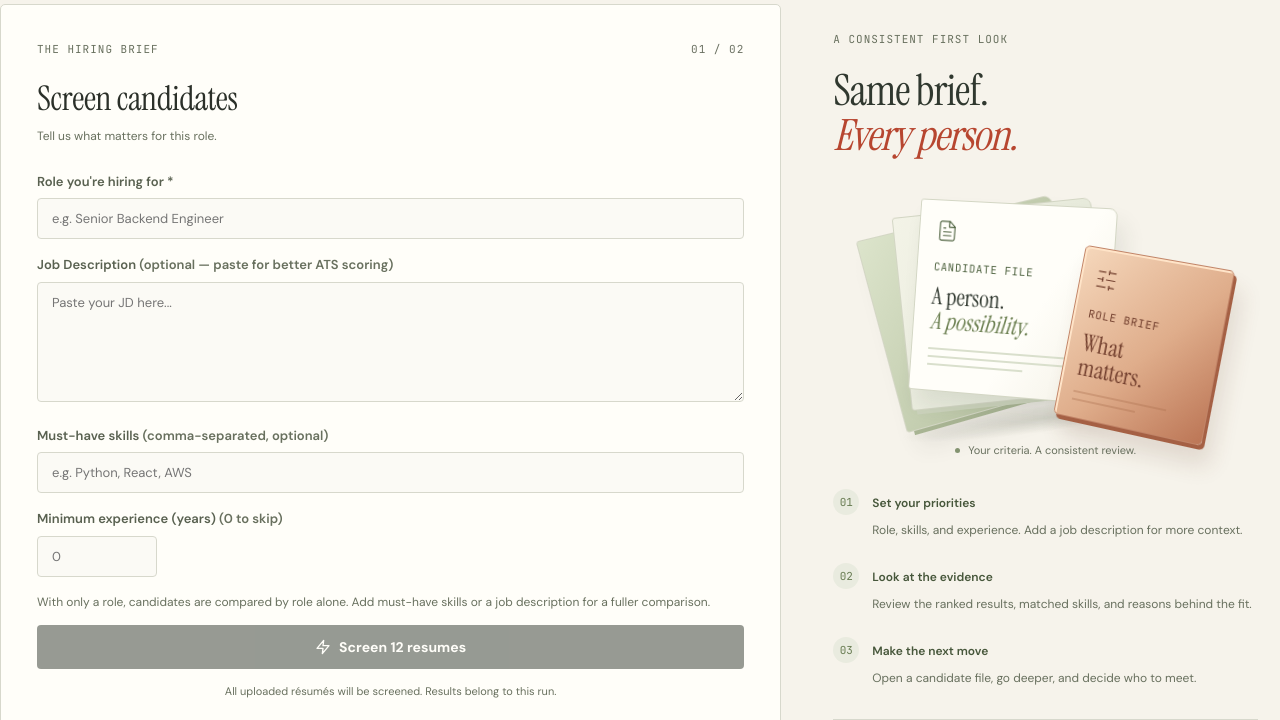
Test: what the form says before a run › that a role alone compares roles, until something else is asked for
Expected: the text "compared by role alone" is shown, [37,594,710,610]
Type "Python" into the field labelled "Must-have skills (comma-separated, optional)" at (391, 473), box [37,452,744,494]
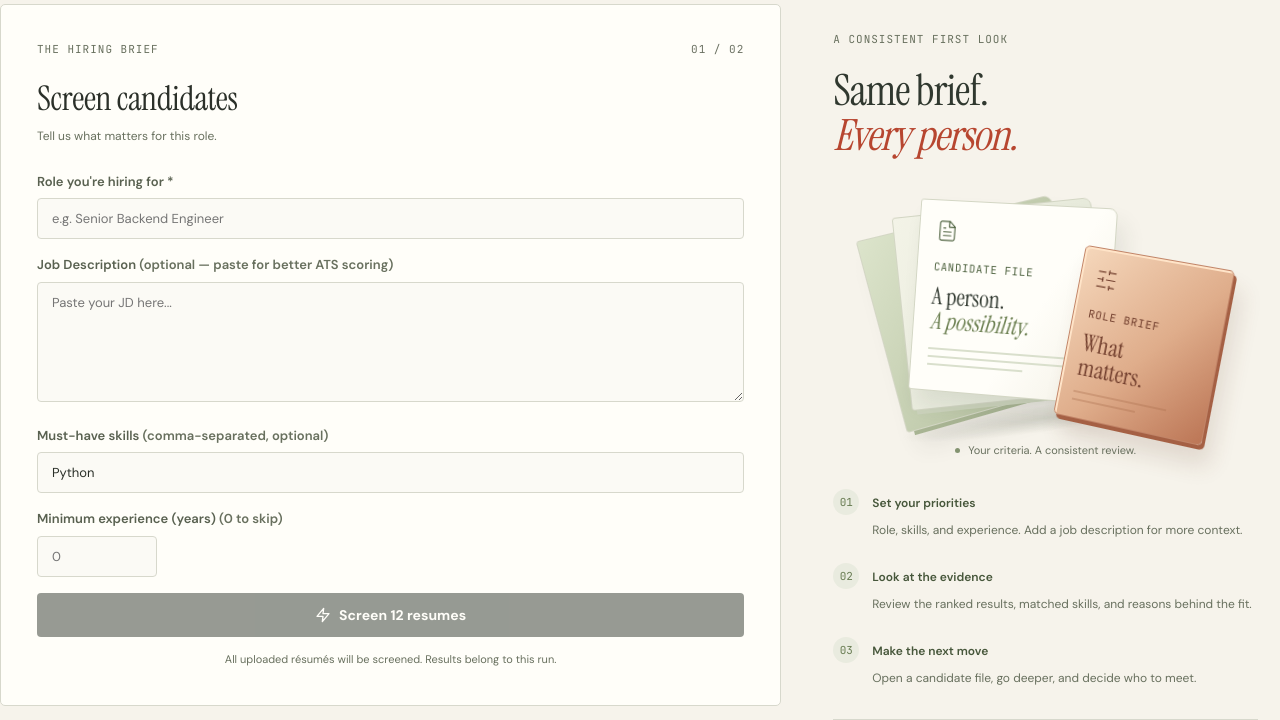
Expected: the text "compared by role alone" is gone
